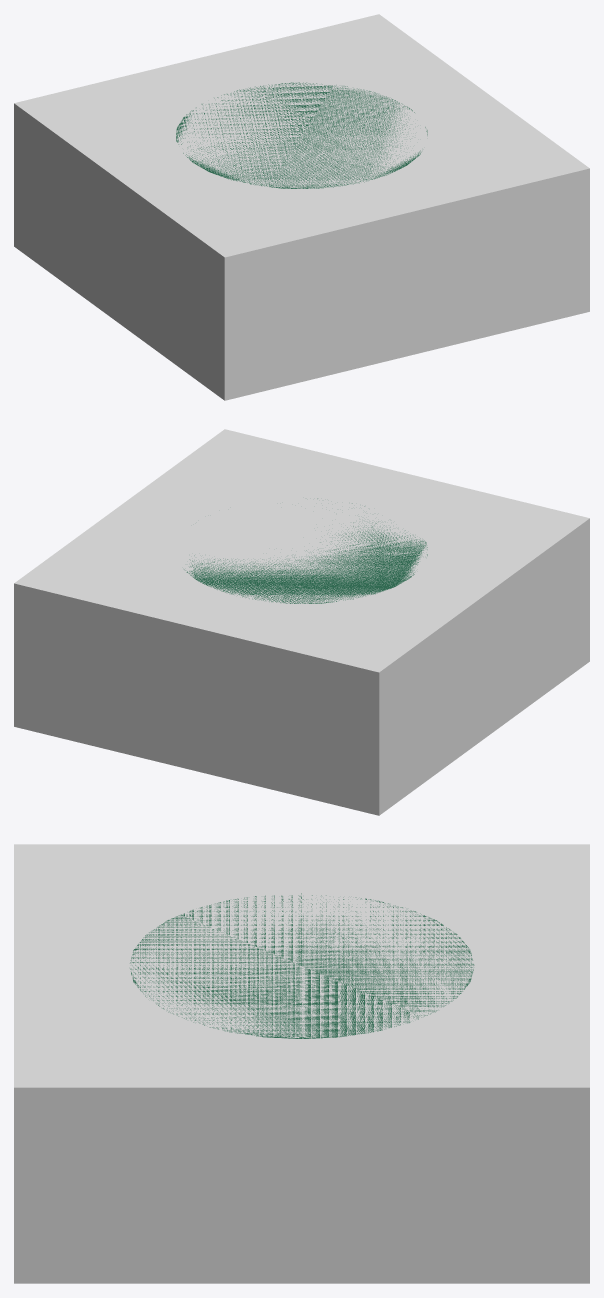
The model's file is ceiling-flush_luxury.glb.
The picture shows the model from 3 angles, top to bottom: view 1: azimuth 30°, elevation 25°; view 2: azimuth 150°, elevation 25°; view 3: azimuth 270°, elevation 25°; orthographic projection. The views are drawn at different scales.
Visible parts, largest first — view 1: COL_ceiling-flush, MESH_CeilingCanopy; view 2: COL_ceiling-flush, MESH_CeilingCanopy; view 3: COL_ceiling-flush, MESH_CeilingCanopy.
Part boxes in pixels (x1=…): COL_ceiling-flush: x1=14, y1=14, x2=589, y2=400; MESH_CeilingCanopy: x1=176, y1=82, x2=427, y2=188; COL_ceiling-flush: x1=14, y1=429, x2=589, y2=815; MESH_CeilingCanopy: x1=184, y1=498, x2=427, y2=603; COL_ceiling-flush: x1=14, y1=844, x2=589, y2=1283; MESH_CeilingCanopy: x1=130, y1=893, x2=474, y2=1038.
Size of the model in its own units: 0.48 by 0.18 by 0.48.
